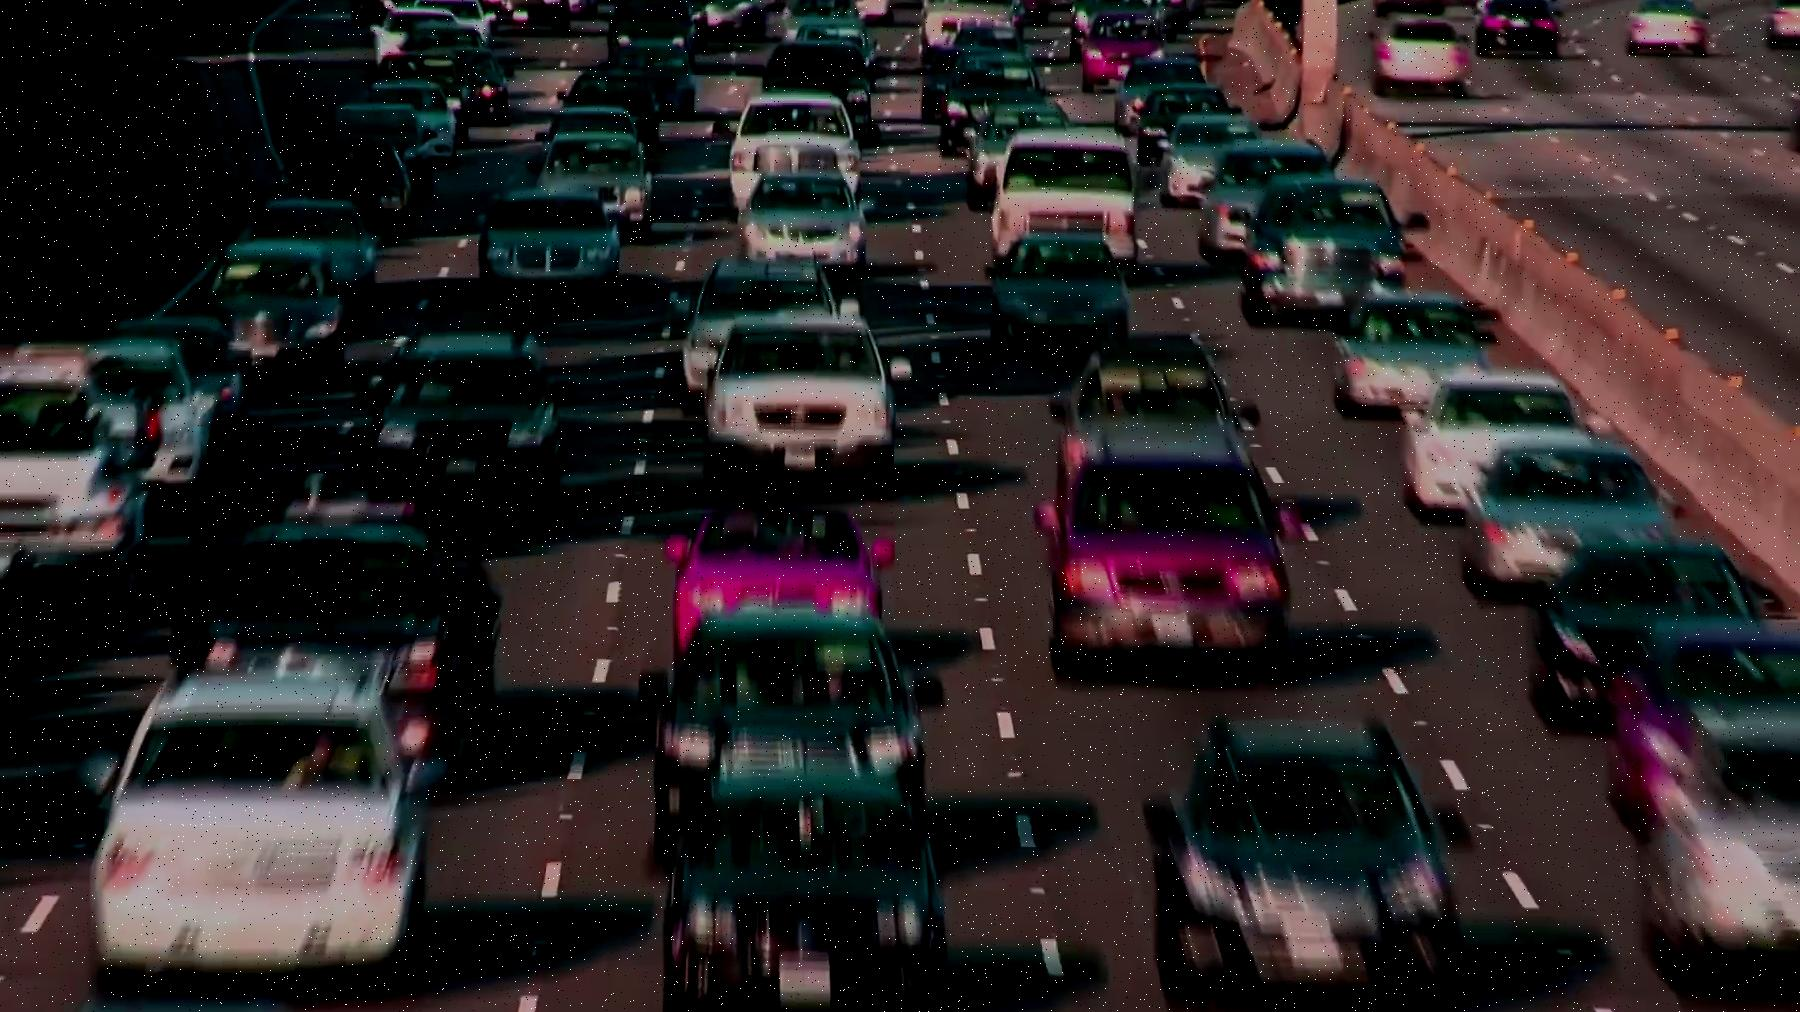car: (677, 500, 885, 631), (1414, 371, 1596, 509), (990, 130, 1145, 269), (200, 247, 352, 378), (476, 188, 632, 304), (1623, 0, 1710, 54)
